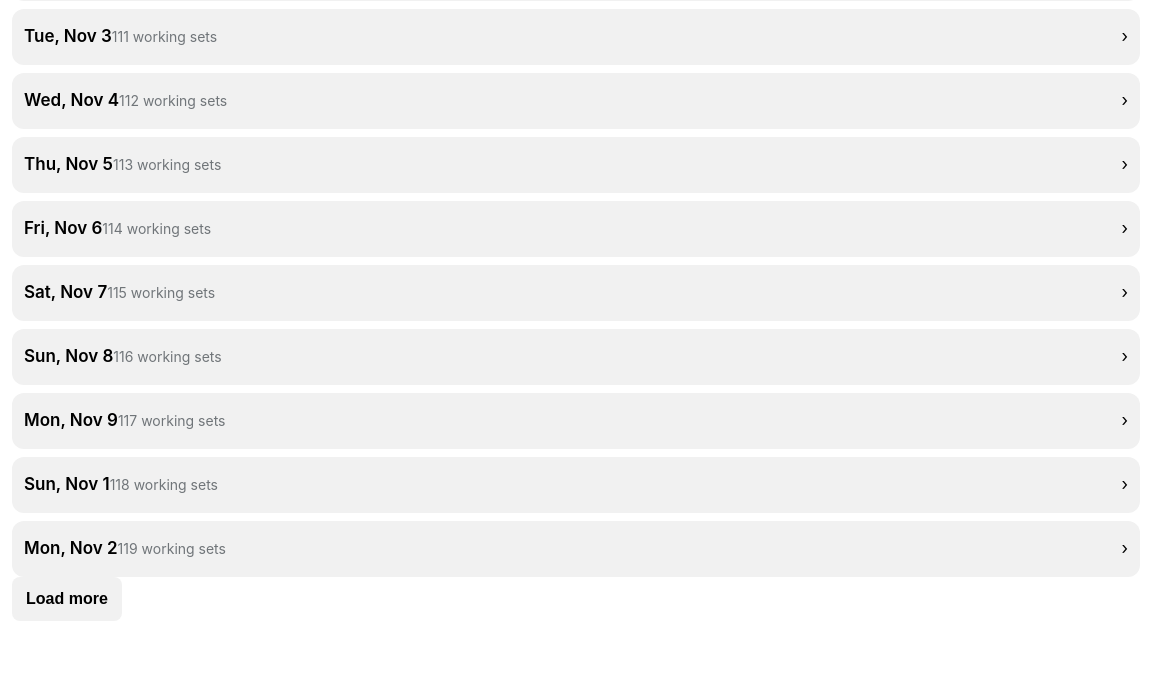
Test: the History screen › offers Load more only when a full page came back, and appends the next one
(page scrolled)
What coordinates should you click on to do the following:
click the button "Load more"
I would click on:
 (67, 599)
Its box is 12,577 -> 122,621.
(page scrolled)
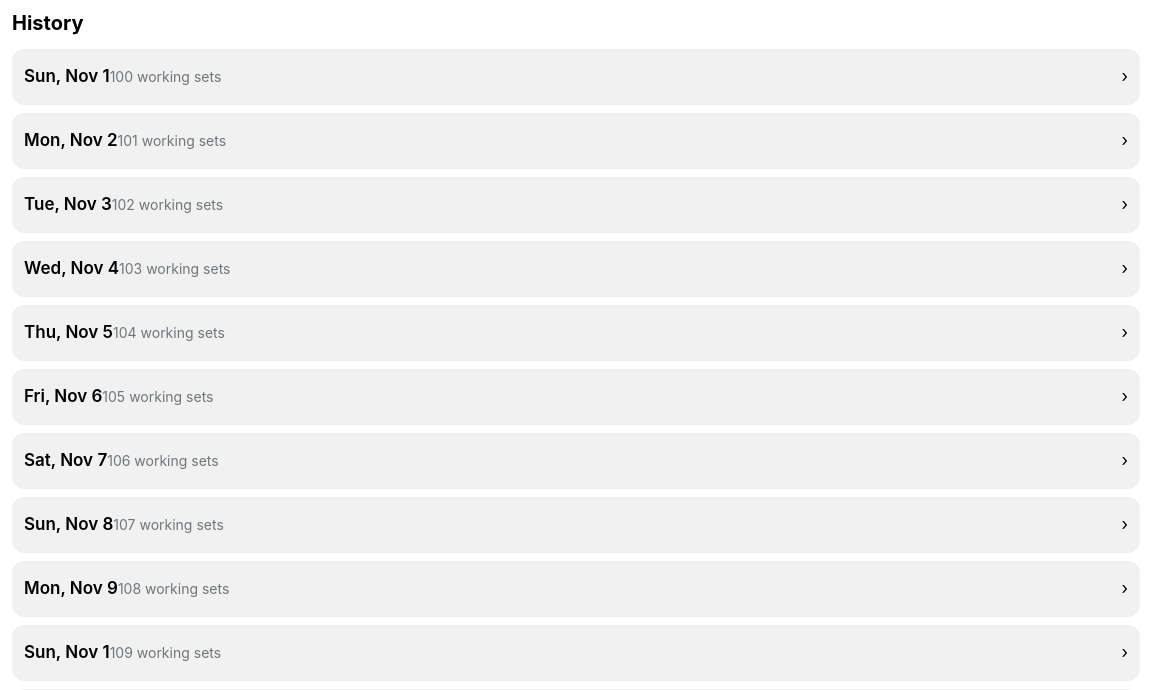
Check: the text "100 working sets" is shown, box 110,68 -> 221,85
Check: the button "Load more" is gone
